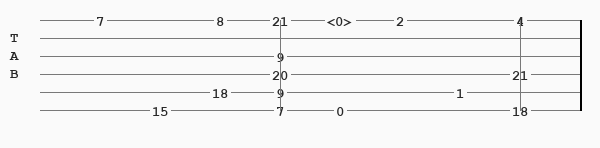0: (336, 104, 348, 117)
1: (456, 86, 468, 99)
15: (152, 104, 172, 117)
18: (212, 86, 232, 99), (512, 104, 532, 117)
2: (396, 14, 408, 27)
20: (272, 68, 292, 81)
21: (272, 14, 292, 27), (512, 68, 532, 81)
4: (516, 14, 528, 27)
7: (96, 14, 108, 27), (276, 104, 288, 117)
8: (216, 14, 228, 27)
9: (276, 86, 288, 99), (276, 50, 288, 63)
harmonic: (327, 14, 357, 27)
